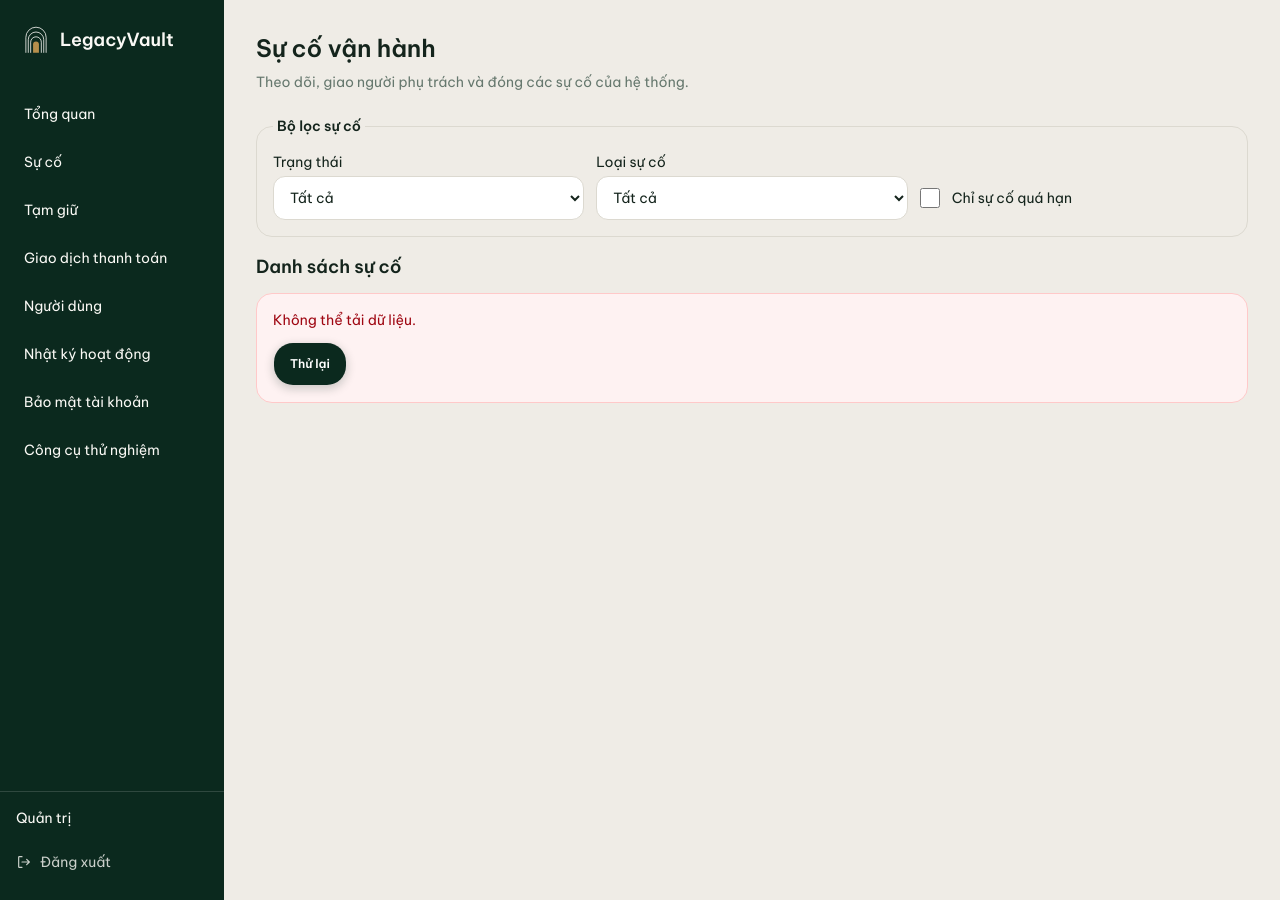
it: Sự cố › hiện lỗi thật kèm nút thử lại, không đổi thành danh sách rỗng
expect the message "Không thể tải dữ liệu. Thử lại" is shown: met, box [256,293,1248,403]
Click the button "Thử lại" at (310, 364), box [273,342,347,386]
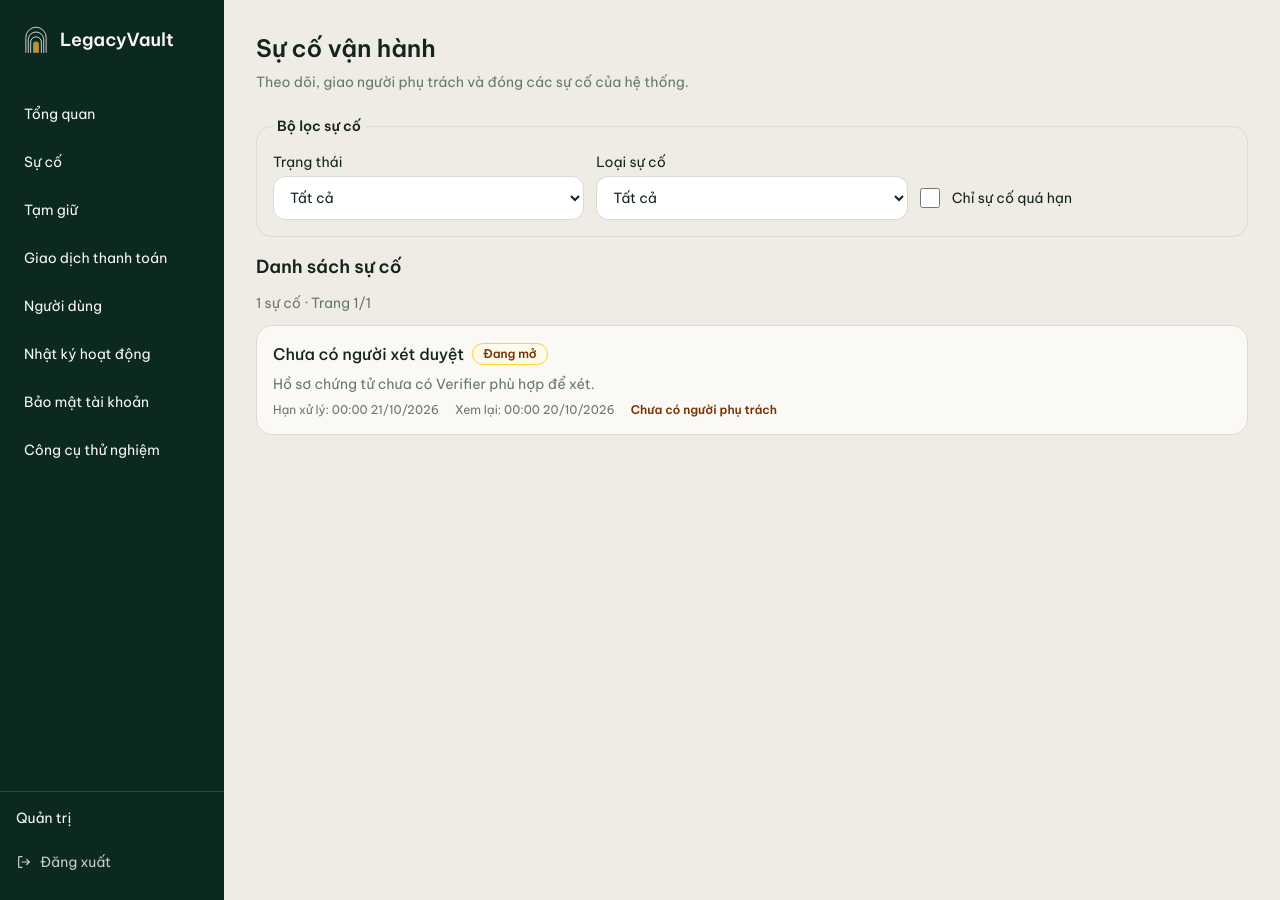
expect the text "Hồ sơ chứng tử chưa có Verifier phù hợp để xét." is shown: met, box [273,374,595,394]
